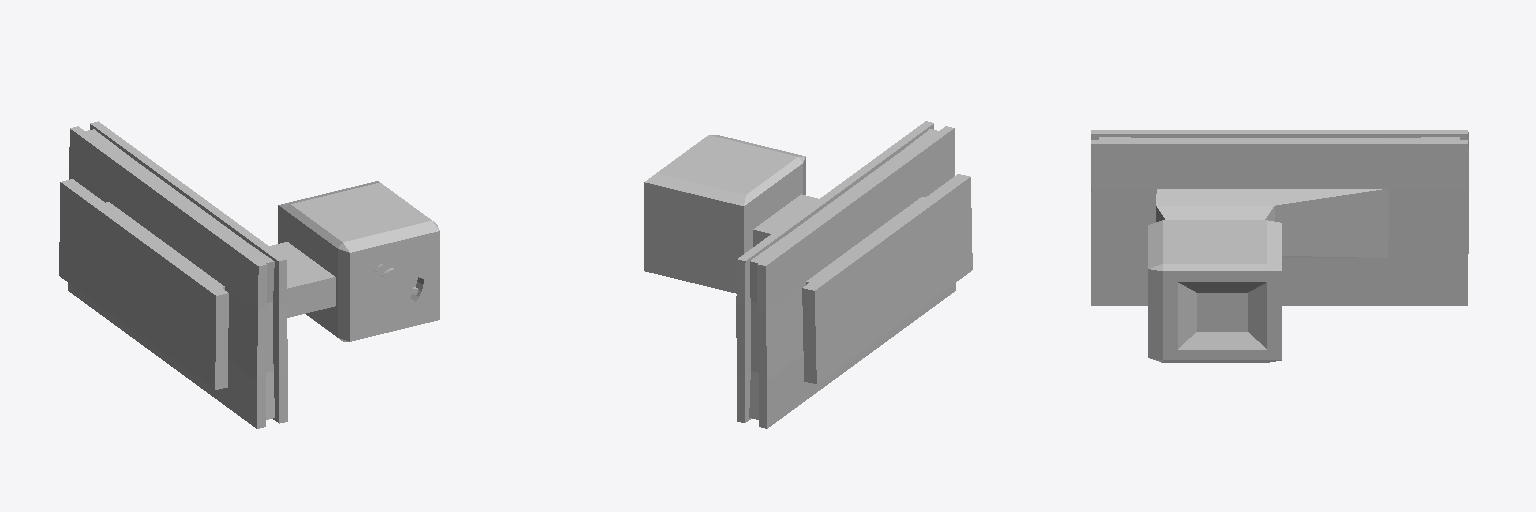
Rendered from hand_l.obj.
3 renders of one model, left to right at view 1: azimuth 30°, elevation 25°; view 2: azimuth 150°, elevation 25°; view 3: azimuth 270°, elevation 25°, orthographic.
Parts seen in each view (by area): view 1: hand_l_Cube; view 2: hand_l_Cube; view 3: hand_l_Cube.
Boxes of the visible parts, box(x1,y1,x2,y2) form: hand_l_Cube: box(59, 121, 439, 428); hand_l_Cube: box(644, 121, 972, 428); hand_l_Cube: box(1091, 130, 1468, 362).
Bounding box in the file's own units: 0.3613 × 0.228 × 0.4819.